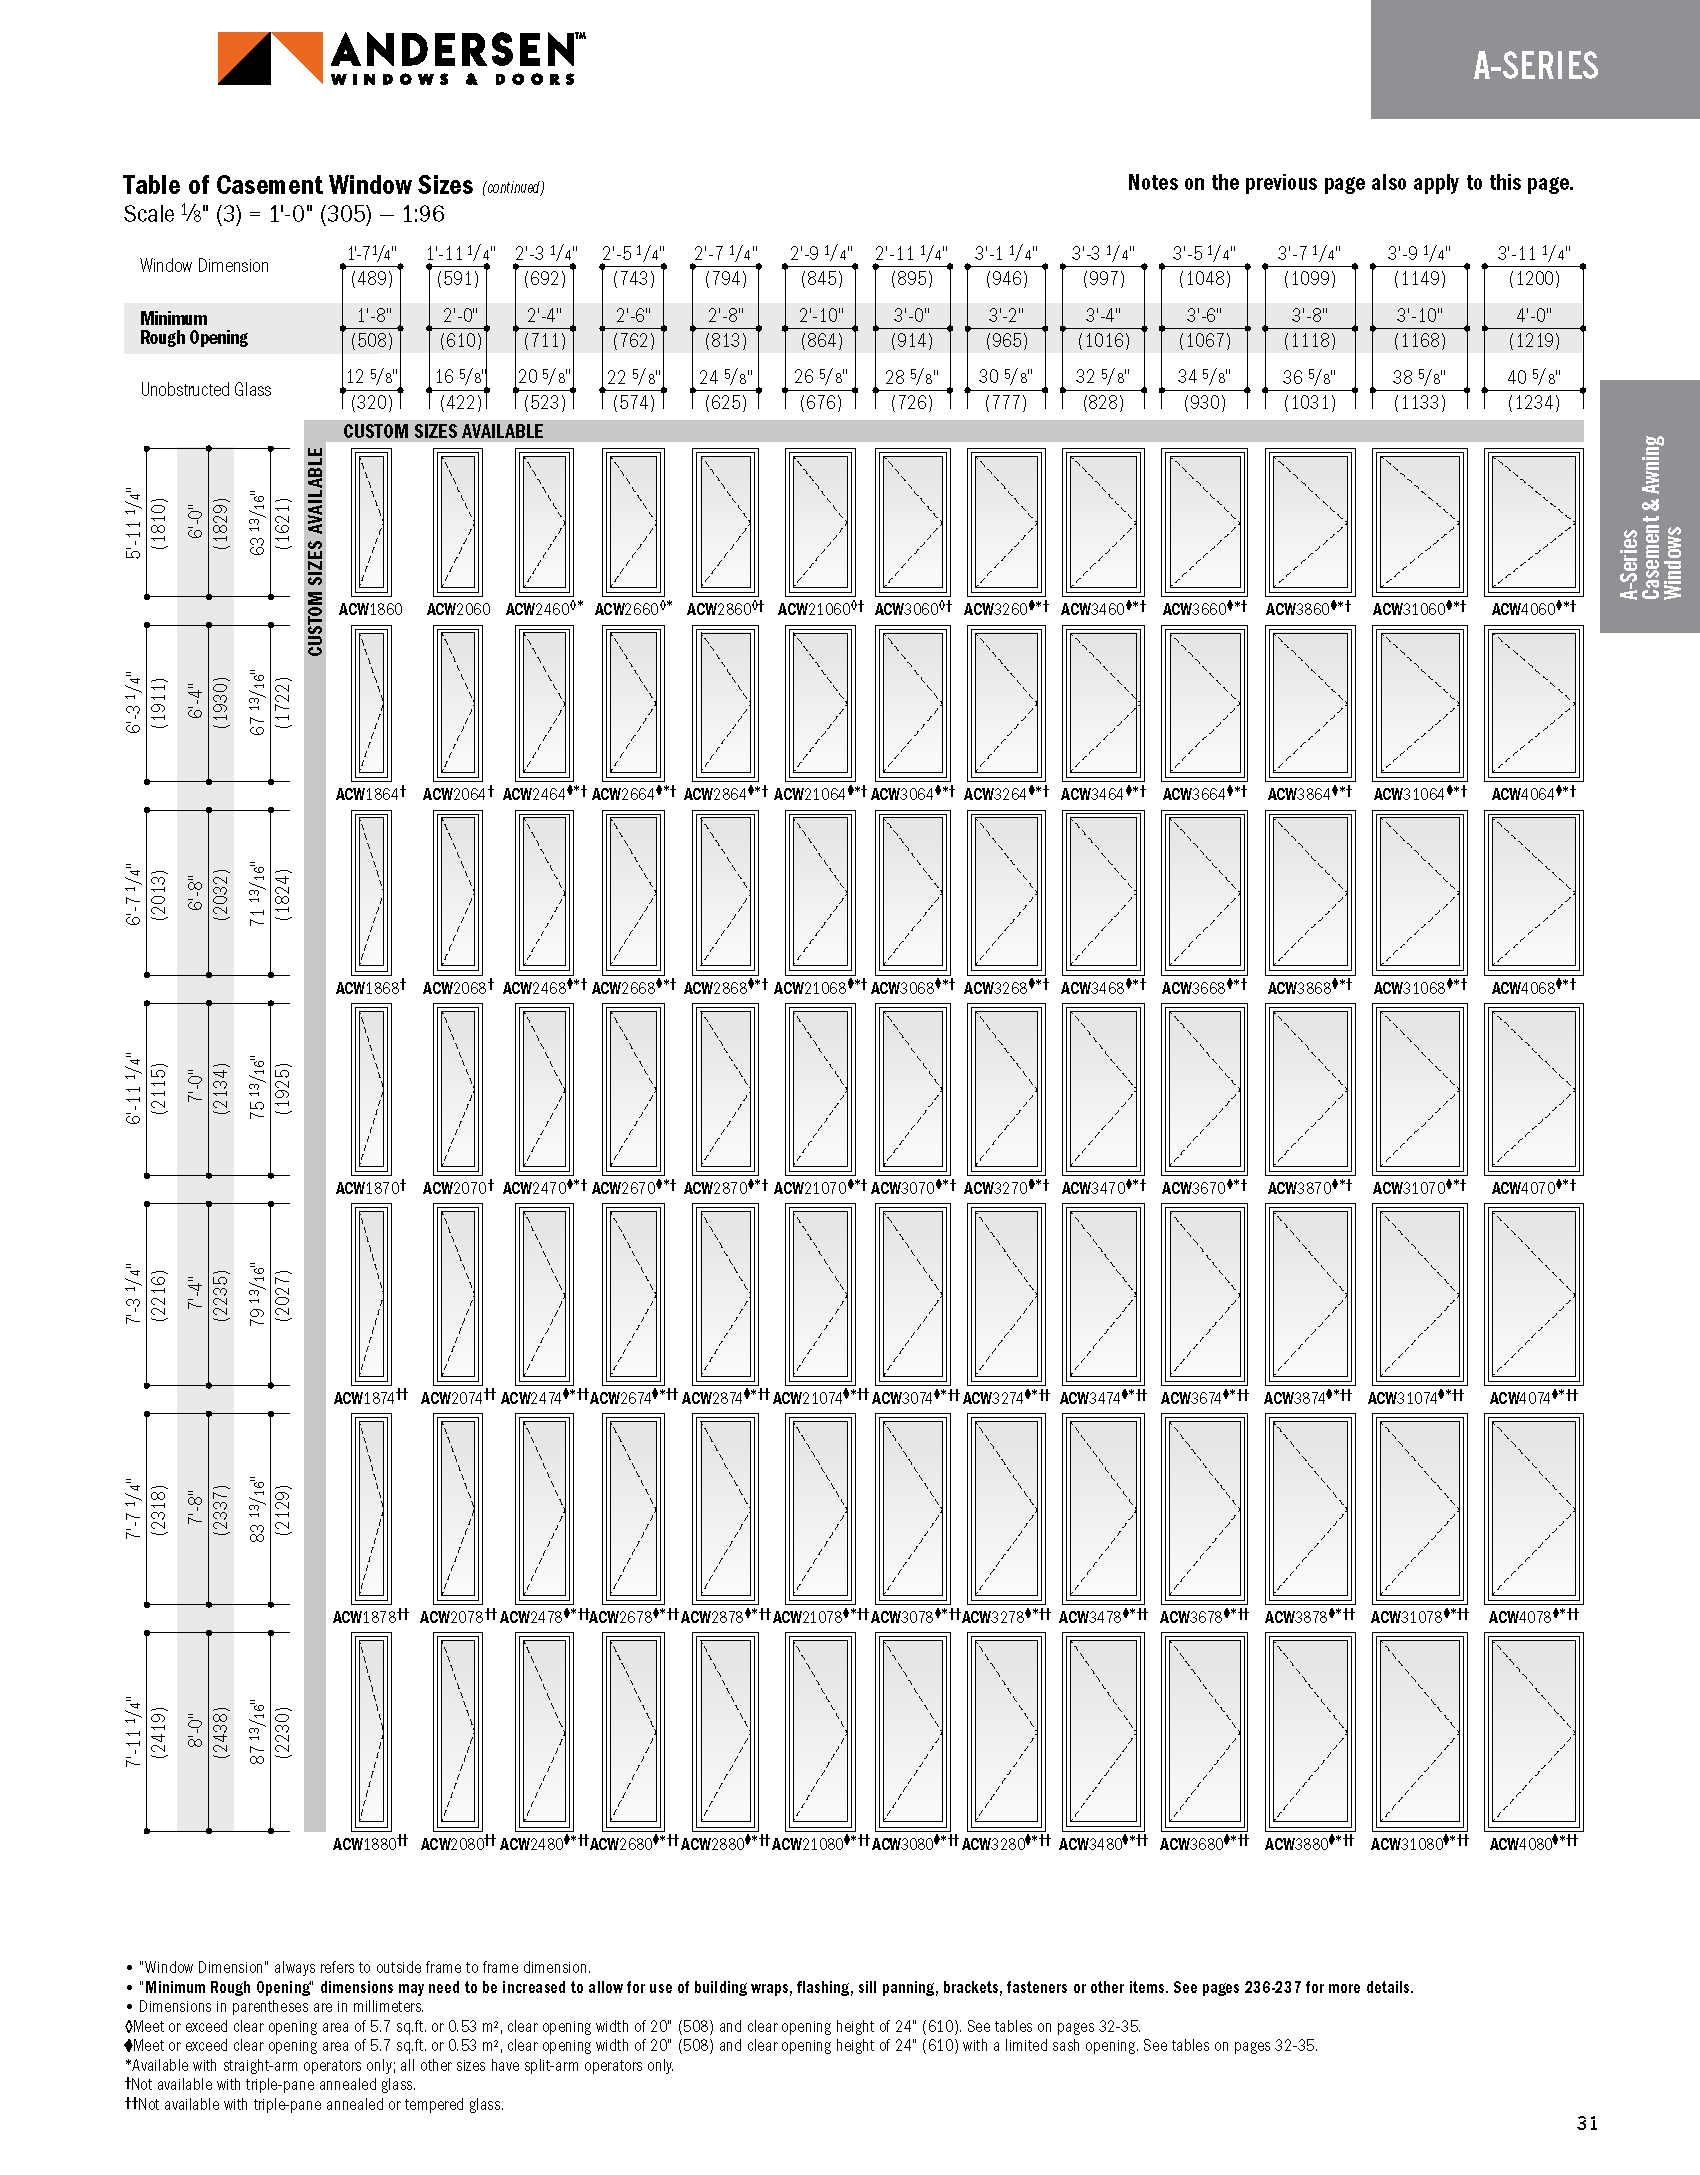tabledetected: (122, 244, 1589, 1863)
